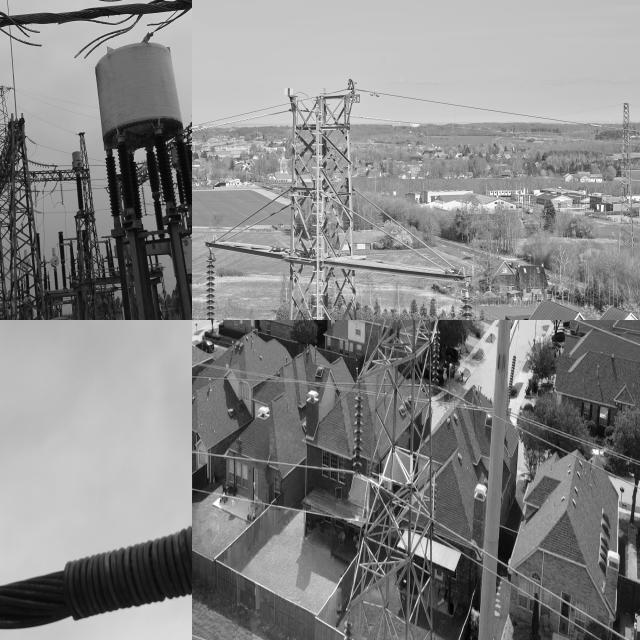杆塔: (339, 320, 460, 640), (283, 84, 358, 320), (616, 90, 640, 264)
正常电缆: (466, 533, 640, 640), (469, 394, 640, 496), (371, 85, 595, 135), (192, 476, 336, 530), (358, 187, 451, 269), (356, 208, 435, 270), (192, 440, 330, 475), (217, 186, 289, 240), (192, 99, 290, 136), (554, 320, 640, 354), (227, 201, 291, 243)
正常绝缘子: (350, 382, 367, 481), (202, 245, 218, 320), (457, 276, 481, 320), (431, 324, 444, 396), (339, 610, 356, 640)
电缆破损: (0, 488, 192, 640), (0, 0, 192, 66)
